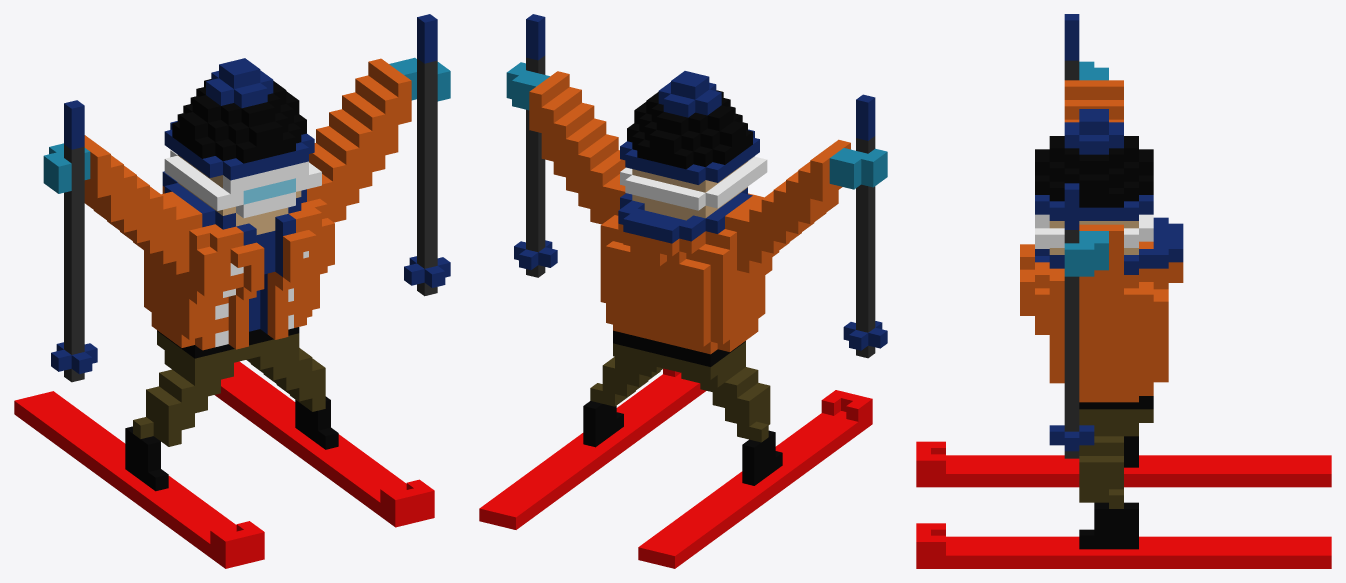
Rendered from Saut_4_Frame_01.obj.
The picture shows the model from 3 angles, left to right: view 1: azimuth 30°, elevation 25°; view 2: azimuth 150°, elevation 25°; view 3: azimuth 270°, elevation 25°; orthographic projection. The views are drawn at different scales.
Bounding box in the file's own units: 30 × 31 × 28.
Materials: 1 (1 with a texture image).
